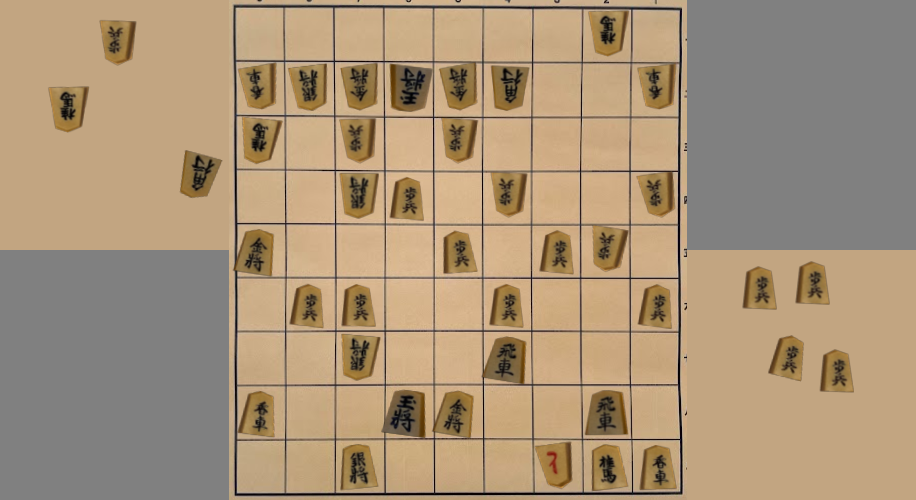A: (383, 391, 425, 437), (484, 338, 525, 383), (235, 229, 274, 276), (587, 391, 627, 435), (434, 391, 472, 437), (341, 445, 377, 490), (539, 231, 575, 275), (240, 392, 274, 437), (593, 446, 627, 490), (642, 446, 676, 490), (391, 178, 423, 220), (343, 285, 375, 327), (491, 285, 522, 327), (445, 232, 476, 274), (639, 286, 670, 328), (291, 286, 321, 328)
B: (535, 441, 576, 492), (391, 65, 430, 111), (340, 173, 378, 219), (637, 173, 675, 217), (243, 118, 280, 163), (289, 65, 326, 110), (590, 12, 627, 56), (343, 335, 379, 380), (492, 66, 528, 110), (240, 64, 275, 109), (639, 65, 674, 109), (441, 64, 475, 109), (492, 173, 526, 216), (342, 65, 375, 109), (340, 120, 374, 162), (594, 227, 627, 270), (444, 120, 476, 162)
C: (770, 337, 802, 381), (821, 350, 853, 392), (797, 263, 829, 304), (744, 268, 775, 309)
D: (180, 151, 221, 198), (50, 87, 87, 131), (101, 21, 135, 64)
